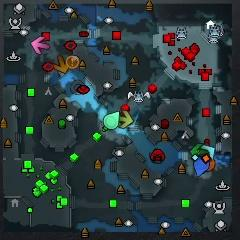Other: (65, 55, 80, 69)
p1: (193, 156, 210, 178)
p2: (103, 111, 121, 130)
p5: (202, 154, 215, 171)
x1: (31, 36, 49, 55)
x2: (119, 110, 134, 128)
x3: (200, 142, 215, 160)
x4: (190, 142, 208, 157)
x5: (53, 54, 69, 73)
